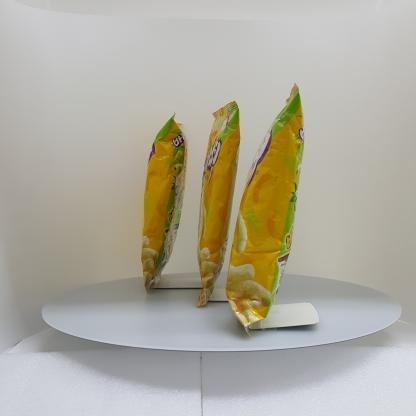Plastic Packaging: (226, 84, 304, 334), (195, 102, 240, 304), (140, 111, 190, 291)
